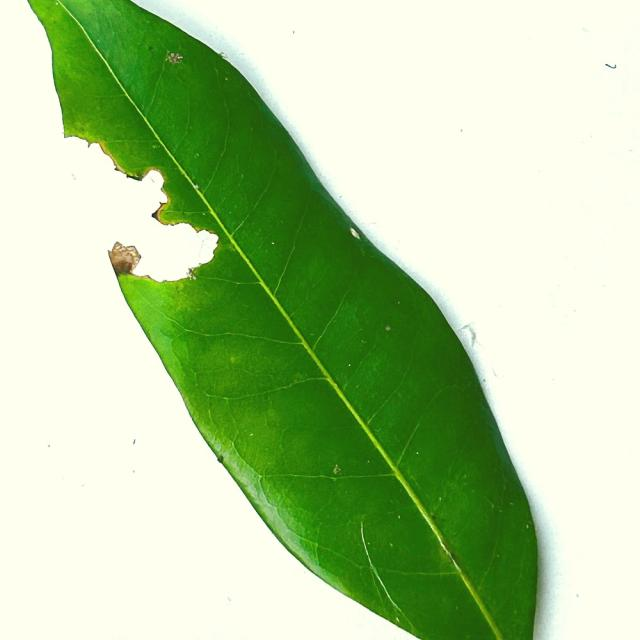Deficiency Leaf: (61, 136, 216, 281)
Lychee: (30, 0, 537, 639)
